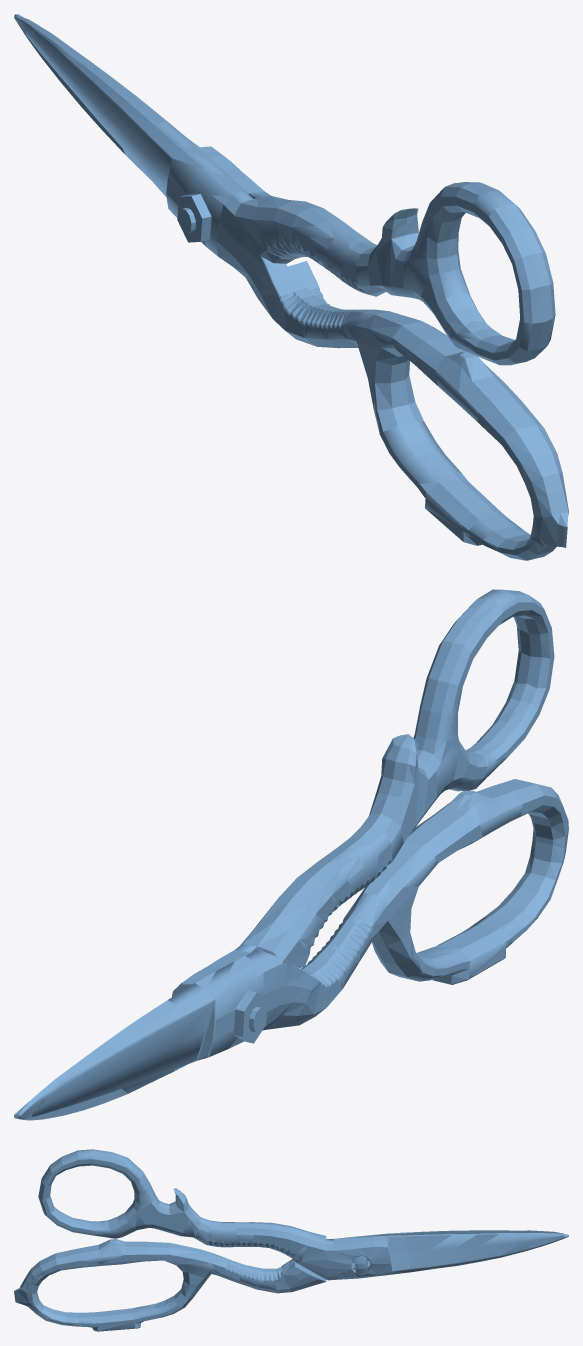
The model's file is scissors2_4.dae.
3 renders of one model, top to bottom at view 1: azimuth 30°, elevation 25°; view 2: azimuth 150°, elevation 25°; view 3: azimuth 270°, elevation 25°, orthographic. The views are drawn at different scales.
Parts seen in each view (by area): view 1: M004947_019; view 2: M004947_019; view 3: M004947_019.
Boxes of the visible parts, box(x1,y1,x2,y2) form: M004947_019: box(14, 14, 568, 560); M004947_019: box(14, 589, 568, 1120); M004947_019: box(14, 1149, 568, 1331).
Size of the model in its own units: 0.0176 by 0.253 by 0.0896.
